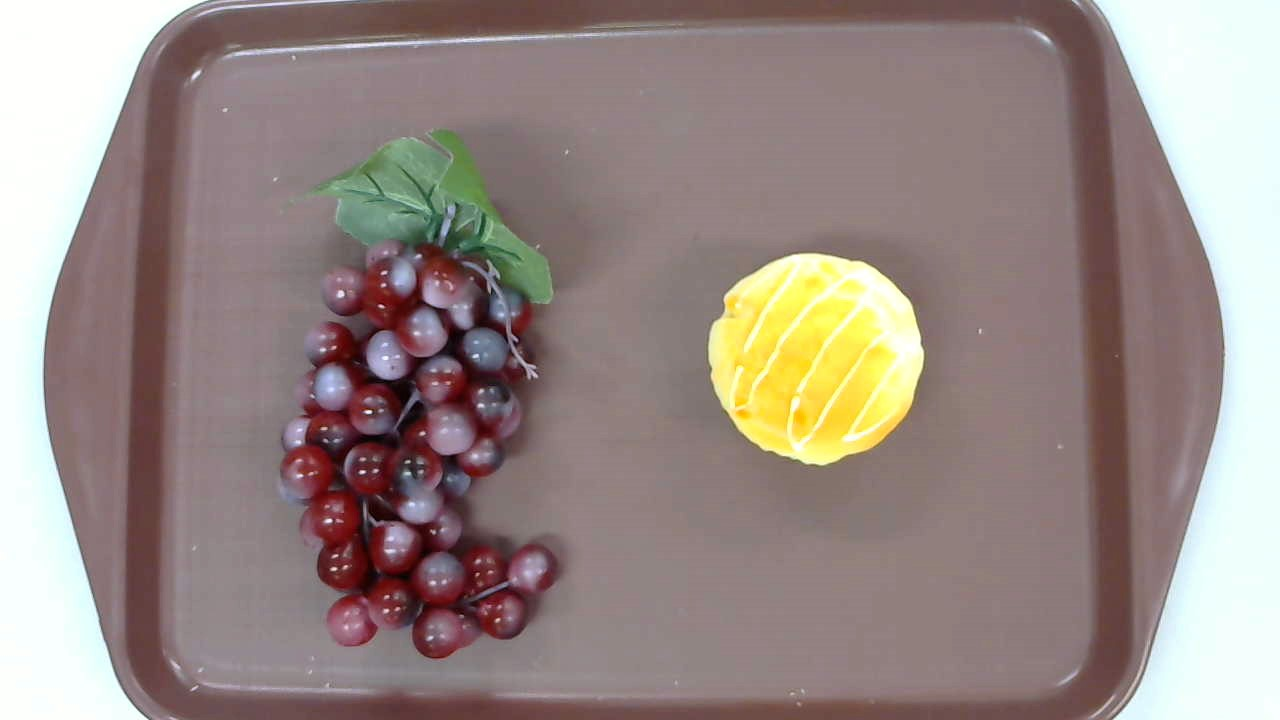cupcake: (707, 253, 925, 466)
grape: (276, 129, 563, 663)
